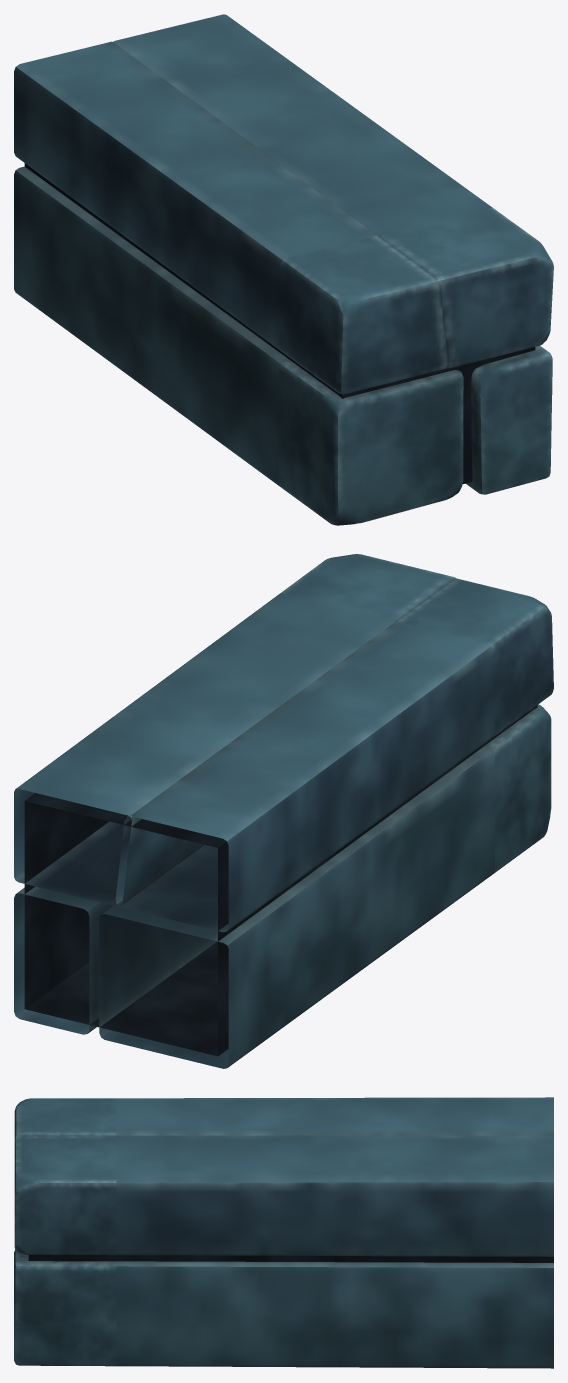
File: ENV_Stone_B.fbx
3 renders of one model, top to bottom at view 1: azimuth 30°, elevation 25°; view 2: azimuth 150°, elevation 25°; view 3: azimuth 270°, elevation 25°, orthographic. The views are drawn at different scales.
Parts seen in each view (by area): view 1: ENV_Stone_B; view 2: ENV_Stone_B; view 3: ENV_Stone_B.
Part boxes in pixels (bbox=[...]): ENV_Stone_B: bbox=[14, 14, 553, 525]; ENV_Stone_B: bbox=[14, 554, 553, 1068]; ENV_Stone_B: bbox=[14, 1097, 553, 1368].
Size of the model in its own units: 0.9652 by 0.9804 by 2.53.
